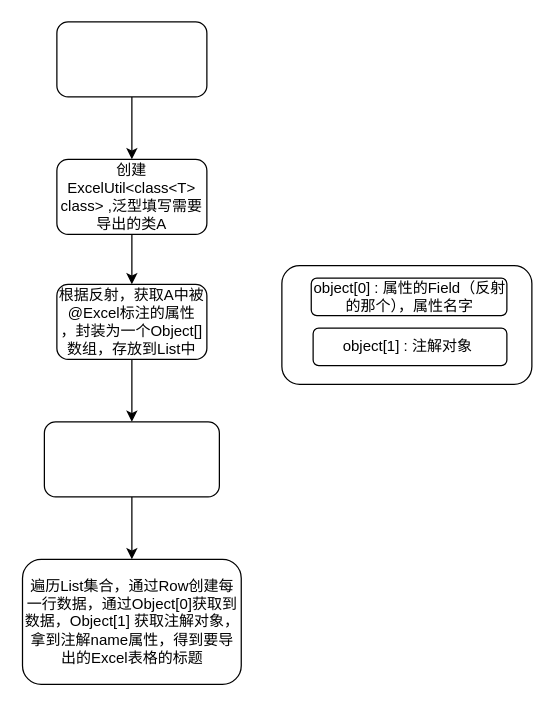
Some shapes in this 554 by 706 pixel diagram are drawn without their labels. Here are the shapes that lost their labels. From the top down, the centre of each, then its label:
At (x=131, y=59): "DB查询出来的数据使用被@Excel标注的类A收集".
At (x=131, y=459): "创建工作簿(Excel文件)，创建工作表（ Excel 文件中的一个表格），设置Excel表格样式".
